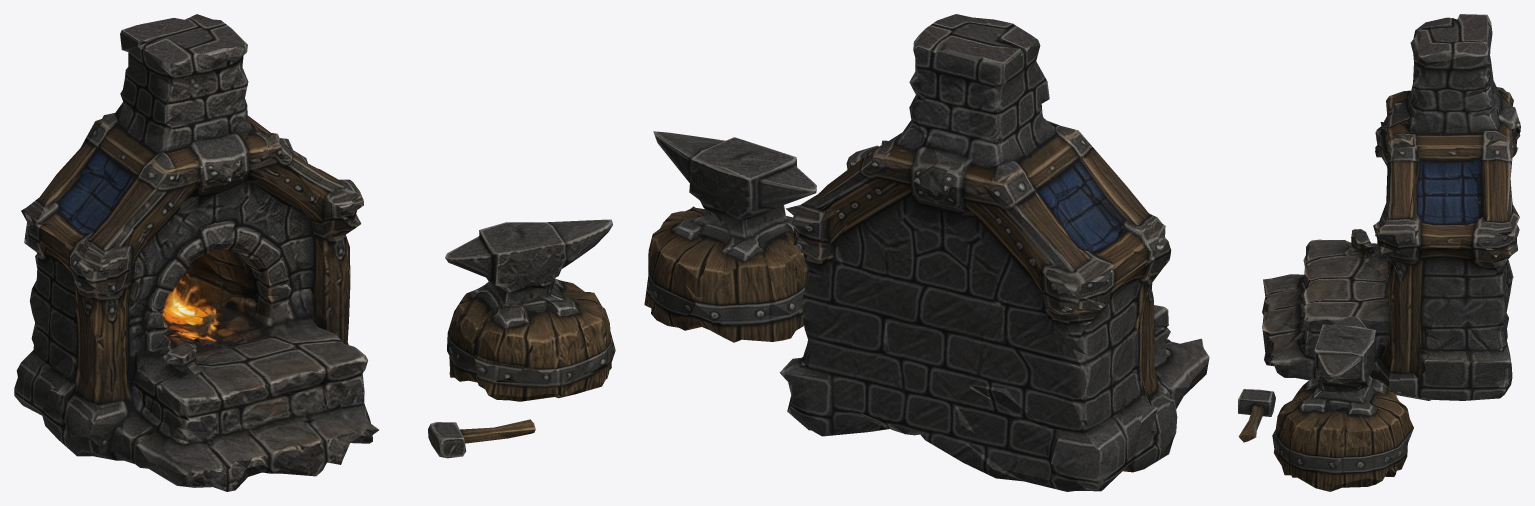
File: war_forge.glb
3 renders of one model, left to right at view 1: azimuth 30°, elevation 25°; view 2: azimuth 150°, elevation 25°; view 3: azimuth 270°, elevation 25°, orthographic. The views are drawn at different scales.
Parts seen in each view (by area): view 1: output_unwrapped; view 2: output_unwrapped; view 3: output_unwrapped.
Part boxes in pixels (<box>): output_unwrapped: <box>14,14,615,491</box>; output_unwrapped: <box>644,14,1209,491</box>; output_unwrapped: <box>1238,14,1520,491</box>.
Size of the model in its own units: 1.9 by 1.33 by 1.07.
1 material, 1 textured.
